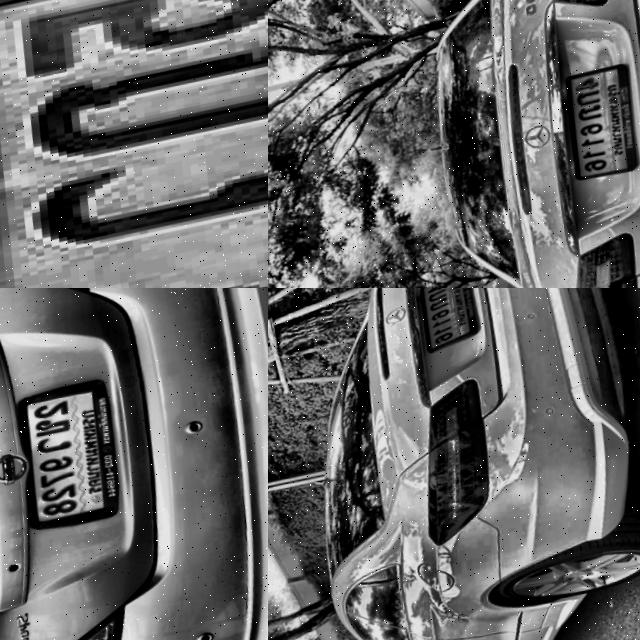license-plate: (0, 0, 268, 288), (10, 380, 134, 540), (560, 67, 640, 190), (412, 288, 487, 358)
